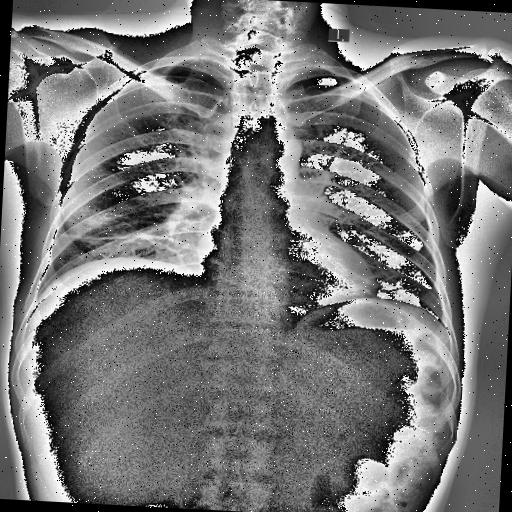13- Pulmonary fibrosis: (55, 221, 182, 253), (54, 227, 192, 249), (54, 228, 186, 248), (370, 272, 420, 284)
